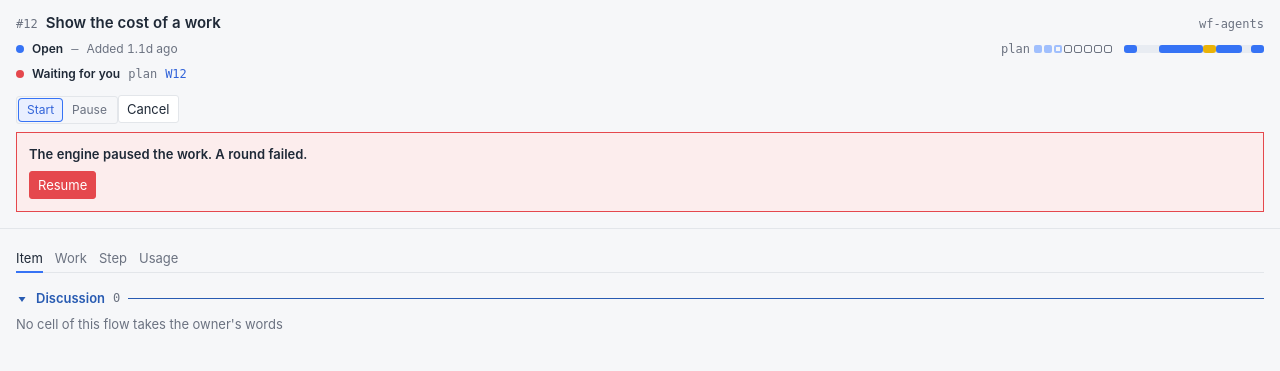
Test case: the cards of what waits for the owner › keep a pressed button disabled until its card goes, and enable it again where the act is refused
Later steps or results of the test are not shown.
The engine takes the act: the button stays disabled once the answer is back, while the card still stands.
Click the button "Resume".
click(63, 185)  # box x1=29 y1=171 x2=96 y2=199
The engine refuses it: the button is enabled again and the refusal is said.
Click the button "Resume".
click(63, 185)  # box x1=29 y1=171 x2=96 y2=199
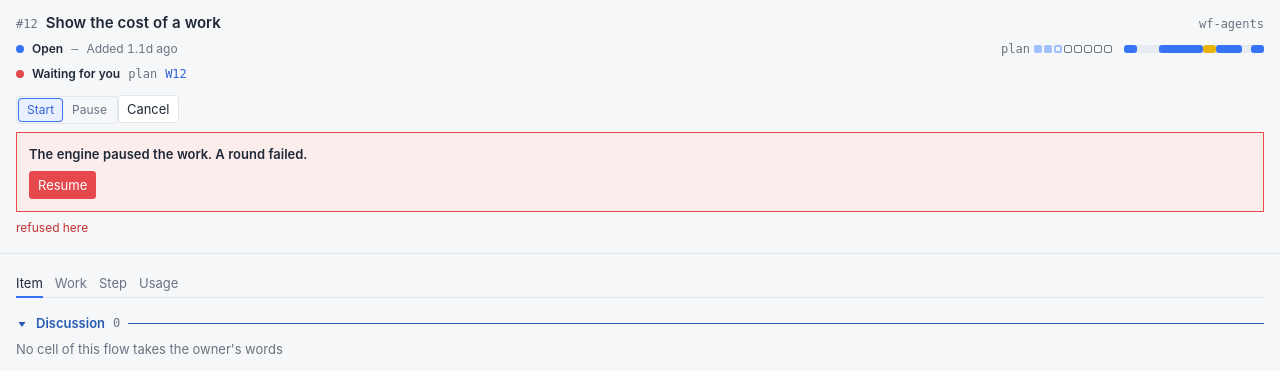
Result: the text "refused here" is shown at x1=16 y1=220 x2=88 y2=235
